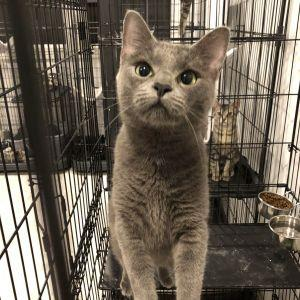rblue: (99, 1, 241, 153)
